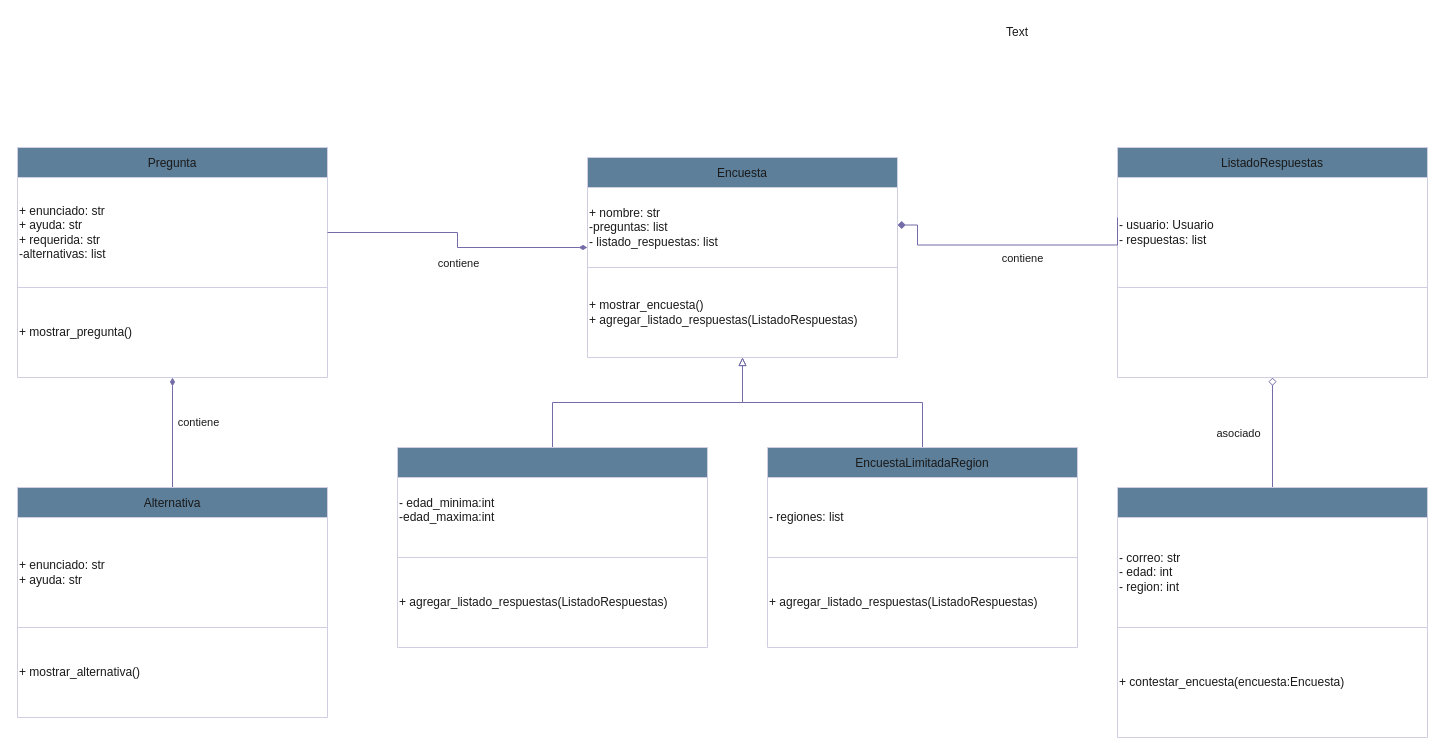
This 1445x755 diagram has some shape labels left out. Here are the shapes that lost their labels. From the top down, the box of each, then its label:
(396, 446, 708, 648): EncuestaLimitadaEdad
(1116, 486, 1428, 738): Usuario
